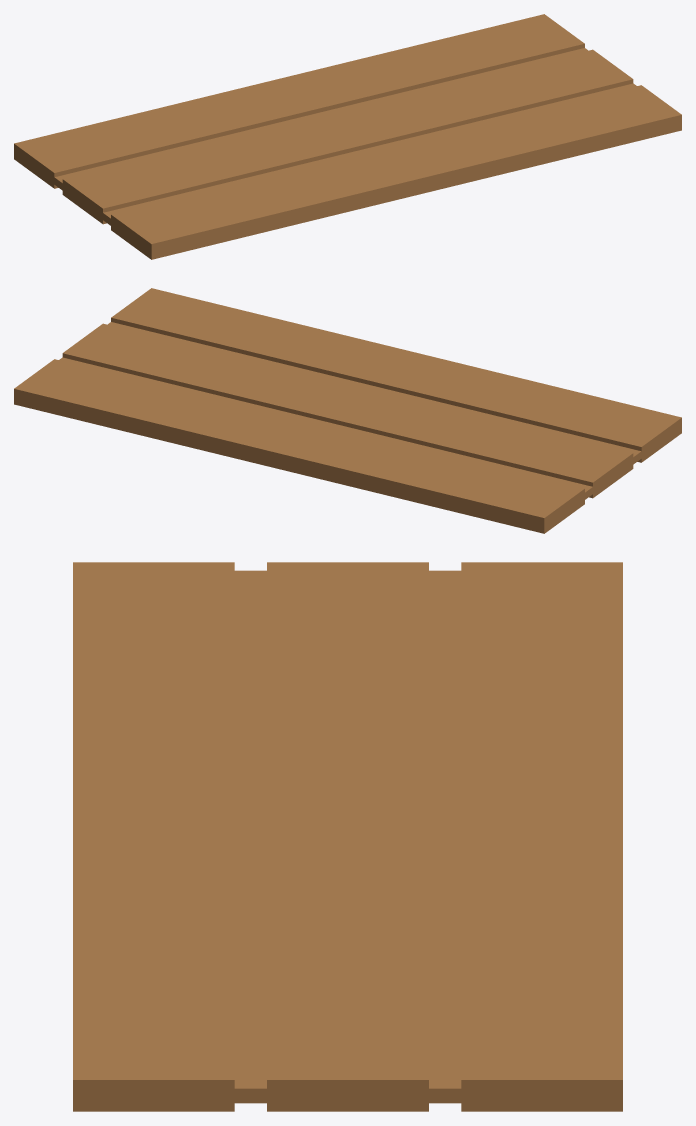
Rendered from breadboard.fbx.
3 renders of one model, top to bottom at view 1: azimuth 30°, elevation 25°; view 2: azimuth 150°, elevation 25°; view 3: azimuth 270°, elevation 25°, orthographic. The views are drawn at different scales.
Visible parts, largest first — view 1: Cube.009, Cube.010, Cube.011, Cube.012; view 2: Cube.011, Cube.009, Cube.010, Cube.012; view 3: Cube.009, Cube.010, Cube.011, Cube.012.
Boxes of the visible parts, x1=… form: Cube.009: x1=111, y1=85, x2=681, y2=259; Cube.010: x1=62, y1=49, x2=633, y2=224; Cube.011: x1=14, y1=14, x2=584, y2=188; Cube.012: x1=34, y1=48, x2=636, y2=247; Cube.011: x1=14, y1=359, x2=584, y2=533; Cube.009: x1=111, y1=288, x2=681, y2=462; Cube.010: x1=62, y1=323, x2=633, y2=498; Cube.012: x1=59, y1=322, x2=641, y2=514; Cube.009: x1=73, y1=562, x2=234, y2=1111; Cube.010: x1=267, y1=562, x2=428, y2=1111; Cube.011: x1=461, y1=562, x2=622, y2=1111; Cube.012: x1=105, y1=570, x2=540, y2=1103.
Bounding box in the file's own units: 379 × 10.72 × 170.
